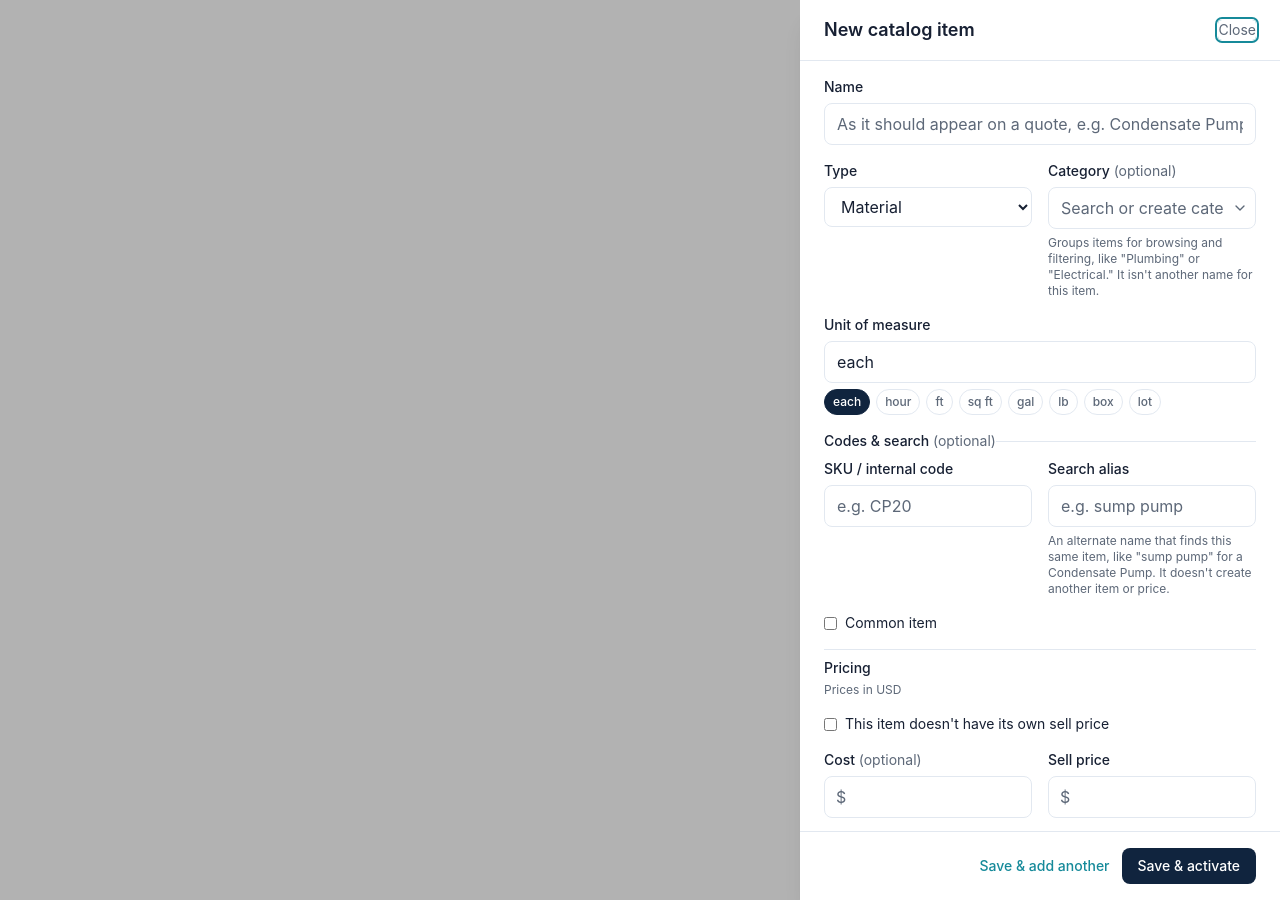
CatalogItemDrawer › focuses the first invalid field in visual order when both name and sell price are missing
Step 1. Click the button "Save & activate" → (1189, 866), box [1122,848,1256,884]
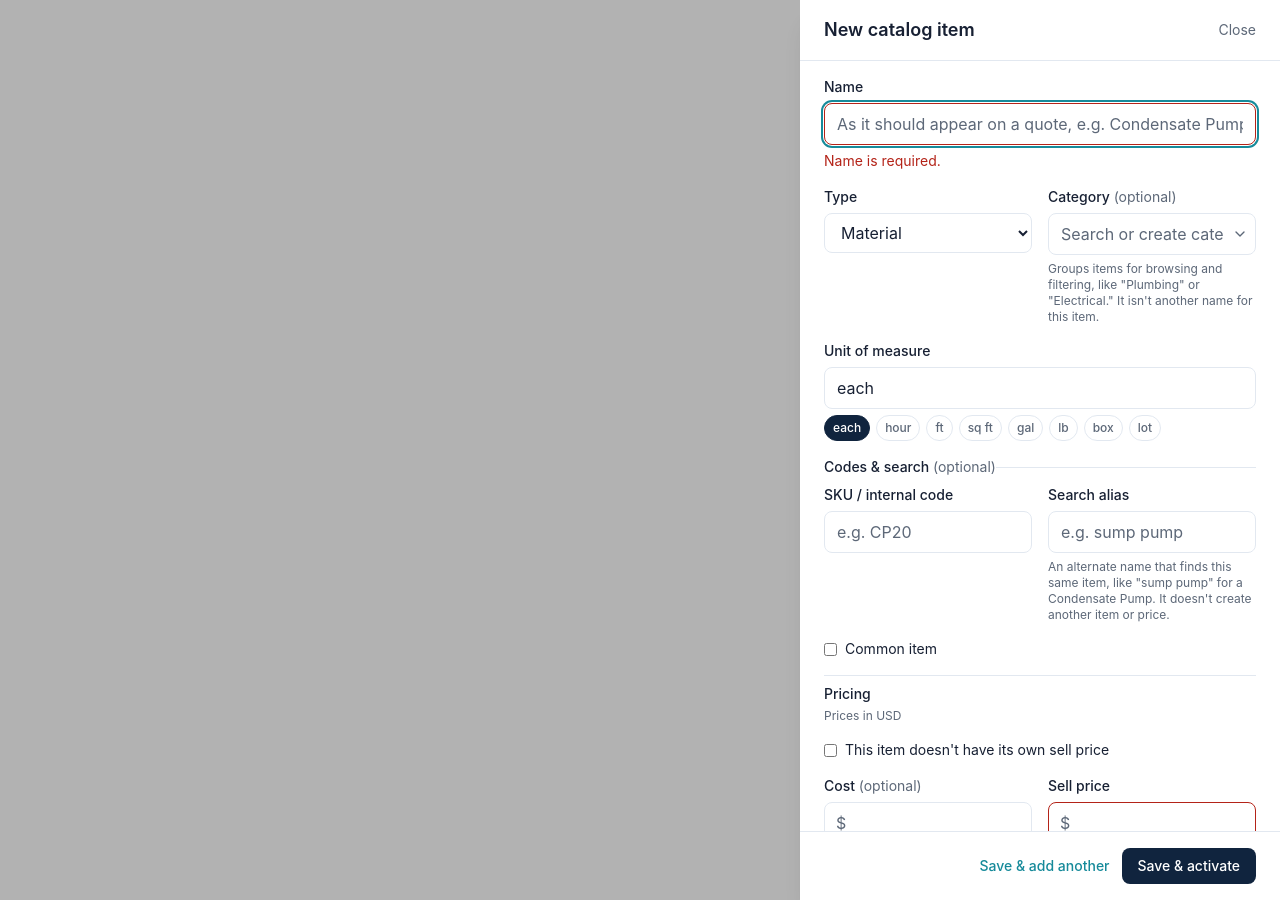
Expected: the text "Name is required." is shown, [824,152,941,169]
